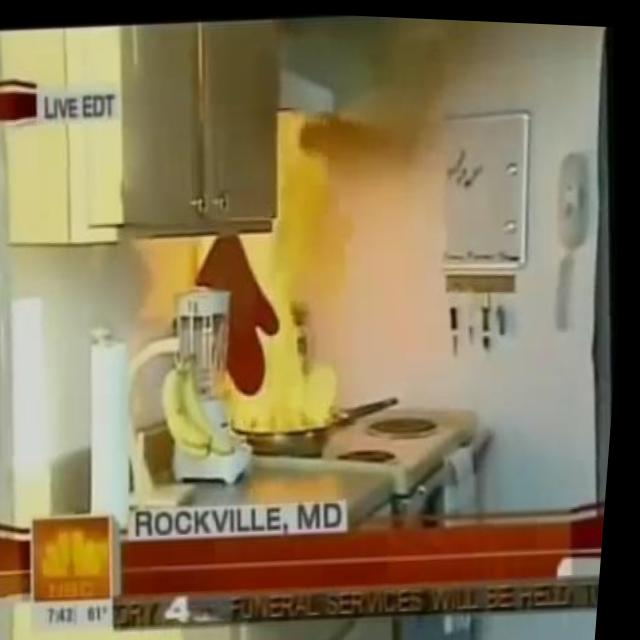fire: (194, 99, 372, 436)
